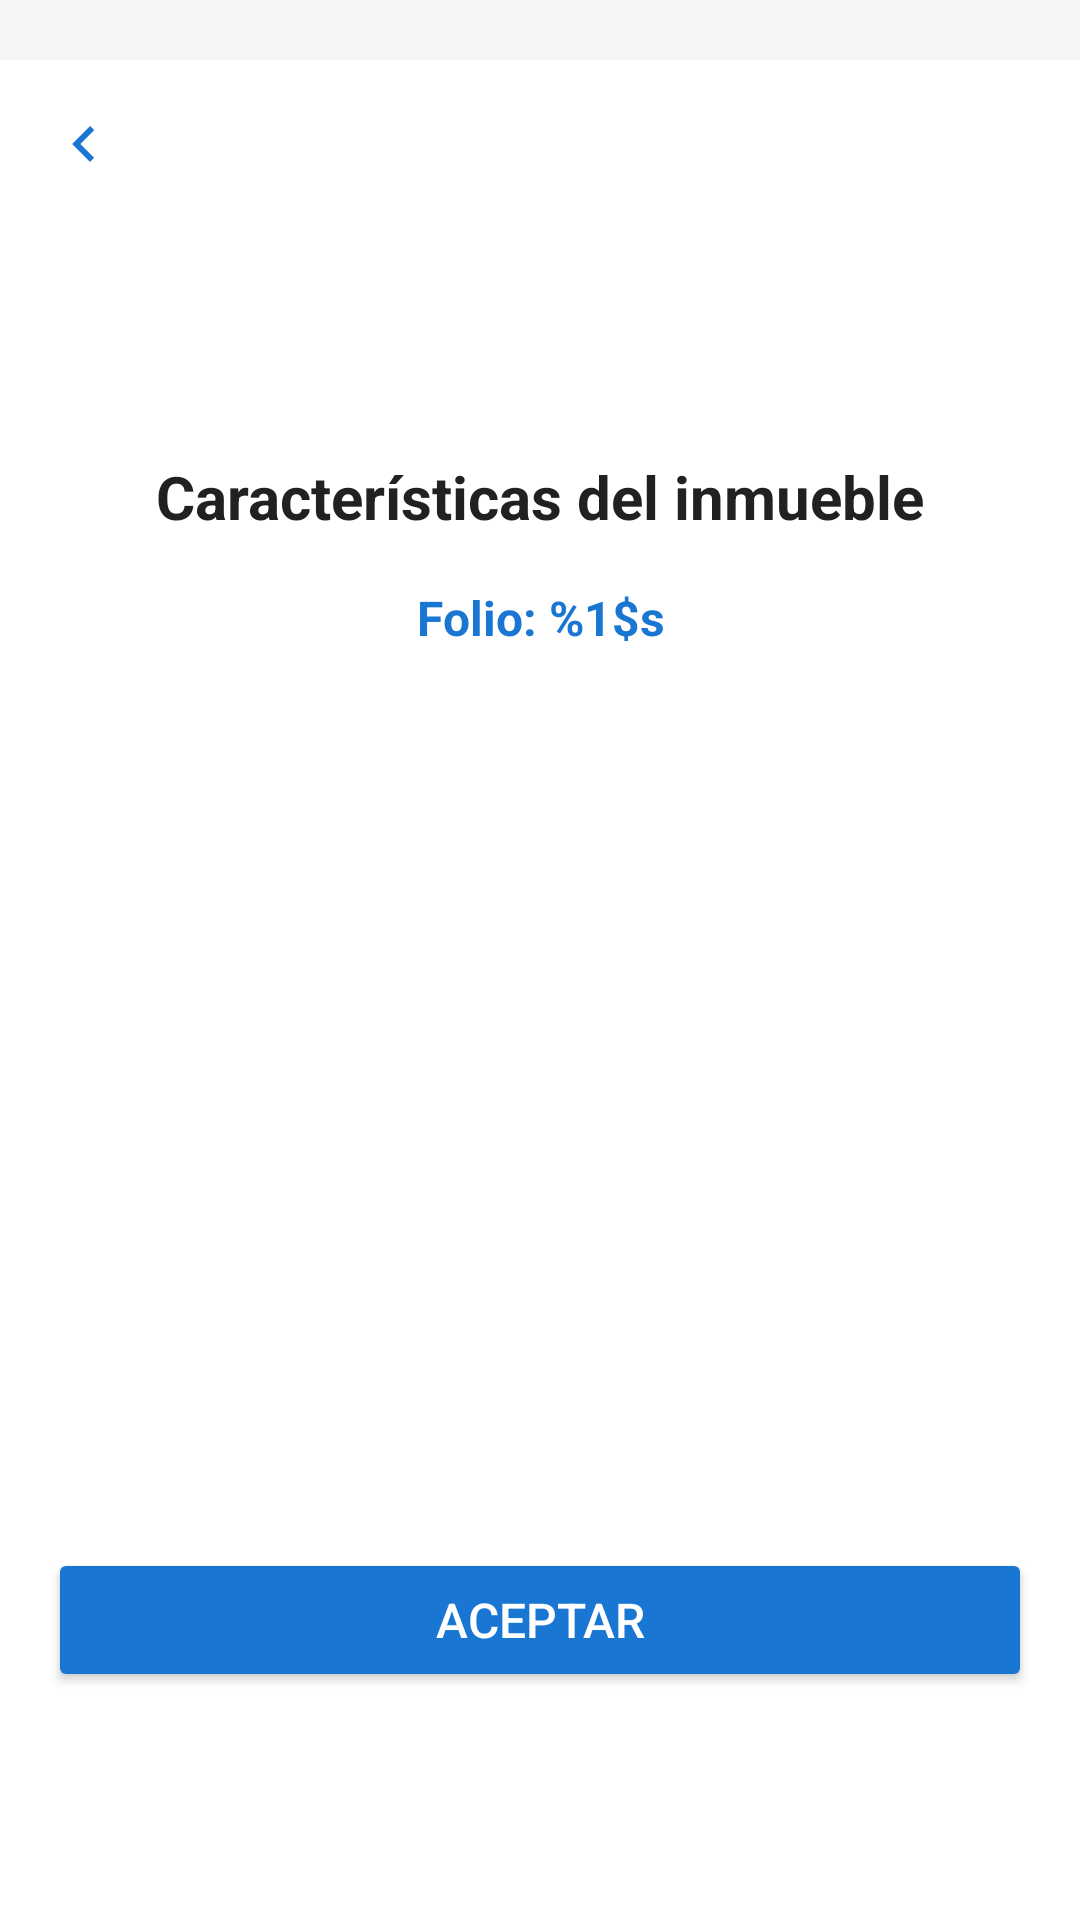

Icon click points for this 1080px x 1920px phone screenshot, format (x=x, y=y):
Regresar: (x=83, y=144)
